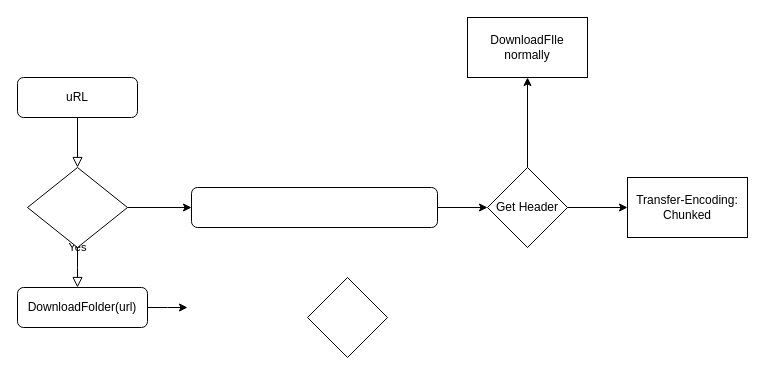
The diagram is 765 pixels wide and 375 high, and some of its shapes have lost their labels. The shapes that lost their labels are listed below. From the top down, each one's centre as x and y in pixels, then its label:
[77,207]: End of url has '.'?
[314,207]: DownloadFile(pathToSave, FileName)
[347,317]: Loop through each file
